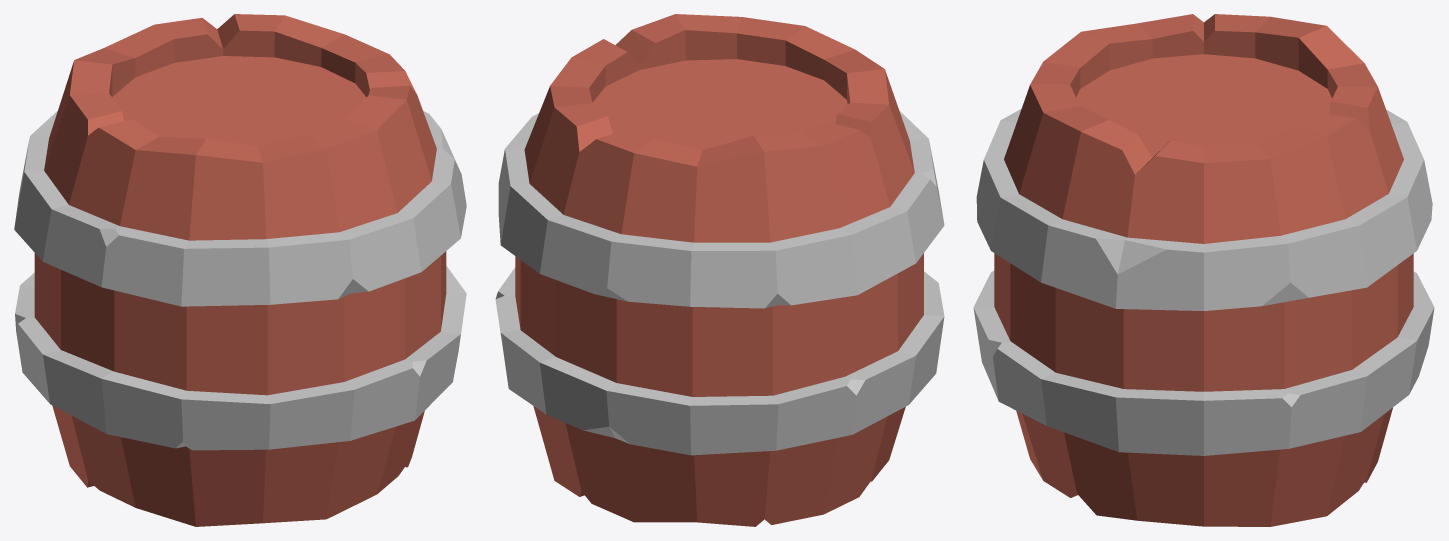
File: barrel.fbx
The picture shows the model from 3 angles, left to right: view 1: azimuth 30°, elevation 25°; view 2: azimuth 150°, elevation 25°; view 3: azimuth 270°, elevation 25°; orthographic projection.
Visible parts, largest first — view 1: simple; view 2: simple; view 3: simple.
Boxes of the visible parts, x1,y1,x2,y2 form: simple: (14, 14, 466, 526); simple: (495, 14, 944, 526); simple: (973, 14, 1434, 526).
Size of the model in its own units: 331 by 331 by 306.
